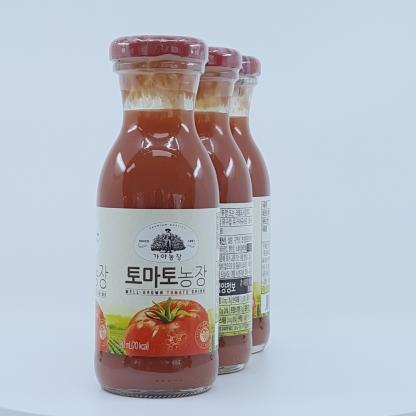-------180ML: (94, 35, 219, 398)
